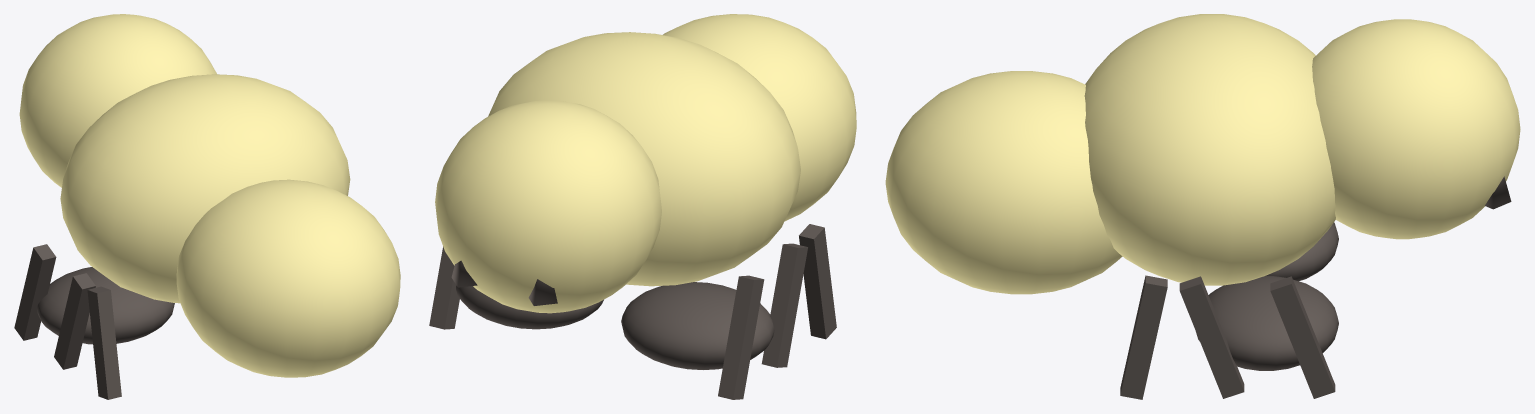
File: enemy_insect.glb
3 renders of one model, left to right at view 1: azimuth 30°, elevation 25°; view 2: azimuth 150°, elevation 25°; view 3: azimuth 270°, elevation 25°, orthographic. The views are drawn at different scales.
Parts seen in each view (by area): view 1: thorax; view 2: thorax; view 3: thorax.
Part boxes in pixels (x1=…): thorax: x1=14, y1=14, x2=400, y2=399; thorax: x1=429, y1=14, x2=856, y2=399; thorax: x1=885, y1=14, x2=1520, y2=399.
Size of the model in its own units: 0.8 by 0.7122 by 1.4.
